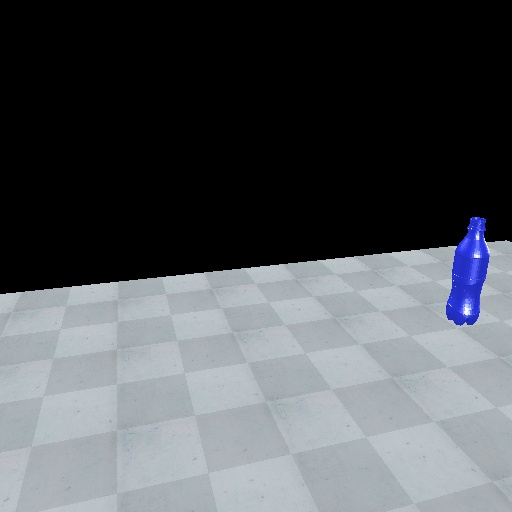bottle: (444, 216, 491, 327)
